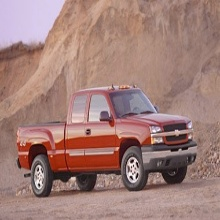no damage: (16, 85, 197, 197)
